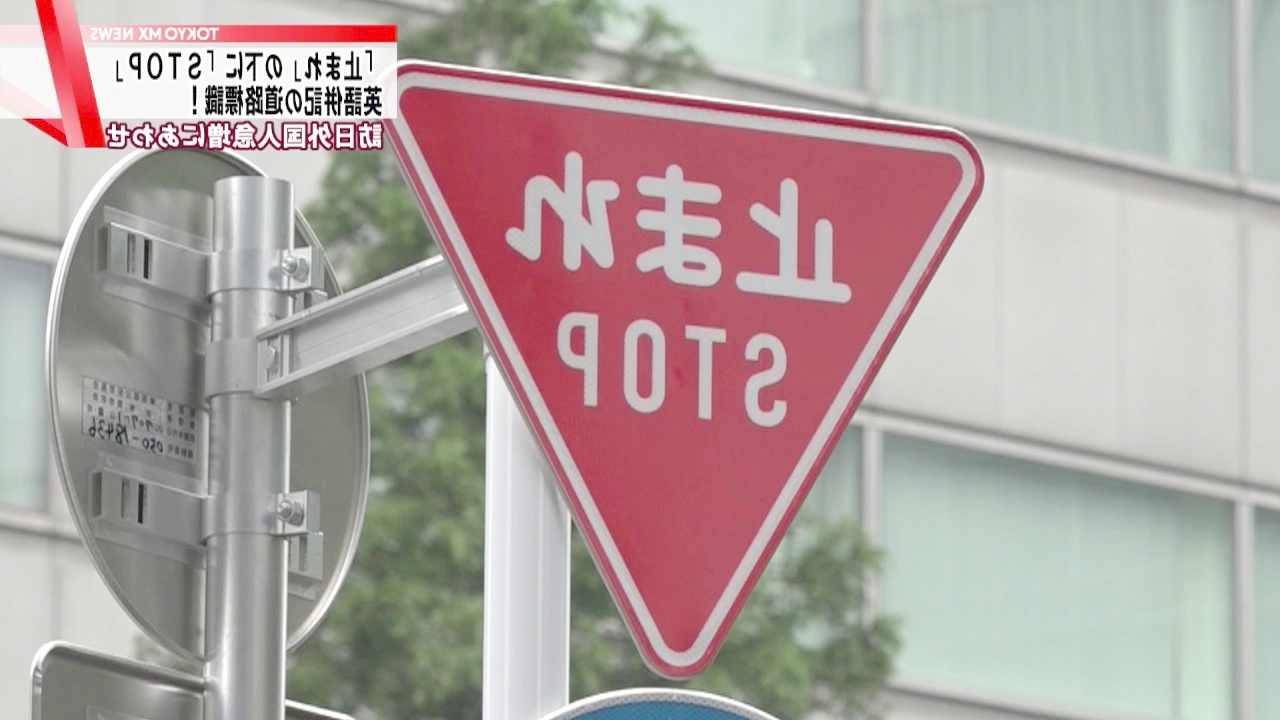Regulatory_sign_triangle: (356, 31, 988, 678)
